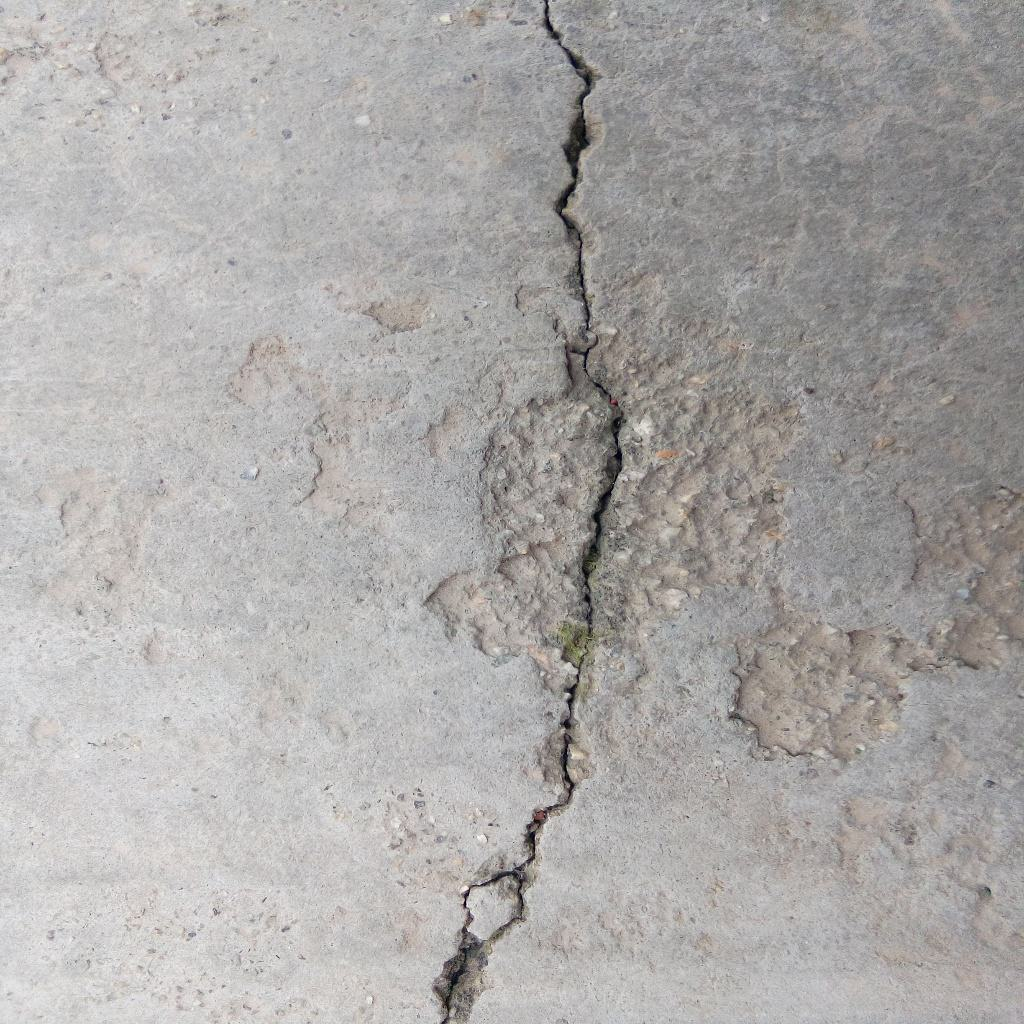Crack: (430, 1, 628, 1024)
Spalling: (421, 322, 804, 689), (725, 482, 1024, 767)
